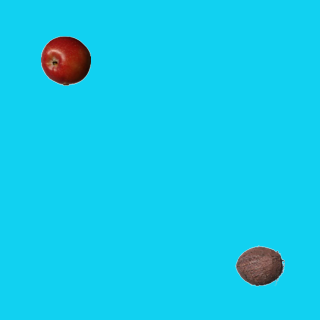Apple Braeburn: (40, 35, 90, 85)
Cocos: (234, 240, 284, 290)
